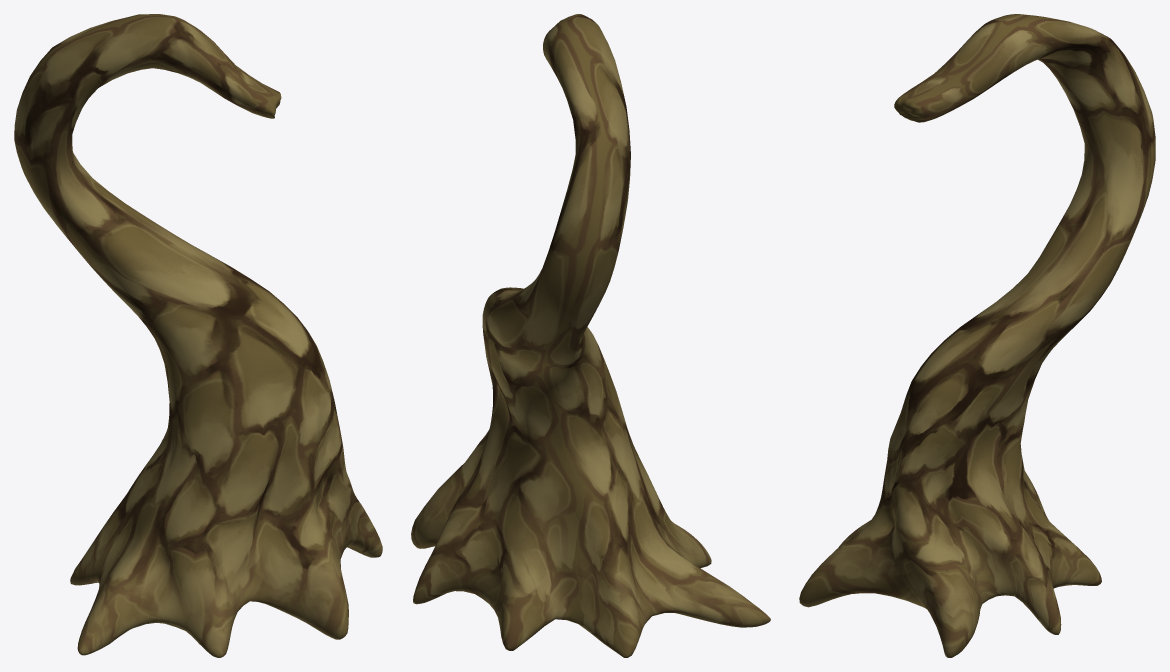
Rendered from treeBaseHook 1.fbx.
3 renders of one model, left to right at view 1: azimuth 30°, elevation 25°; view 2: azimuth 150°, elevation 25°; view 3: azimuth 270°, elevation 25°, orthographic. The views are drawn at different scales.
Visible parts, largest first — view 1: pCylinder20; view 2: pCylinder20; view 3: pCylinder20.
Boxes of the visible parts, bbox=[...] form: pCylinder20: bbox=[14, 14, 382, 657]; pCylinder20: bbox=[411, 14, 770, 657]; pCylinder20: bbox=[799, 14, 1155, 657].
Bounding box in the file's own units: 601 × 1027 × 587.
Materials: 1 (1 with a texture image).
